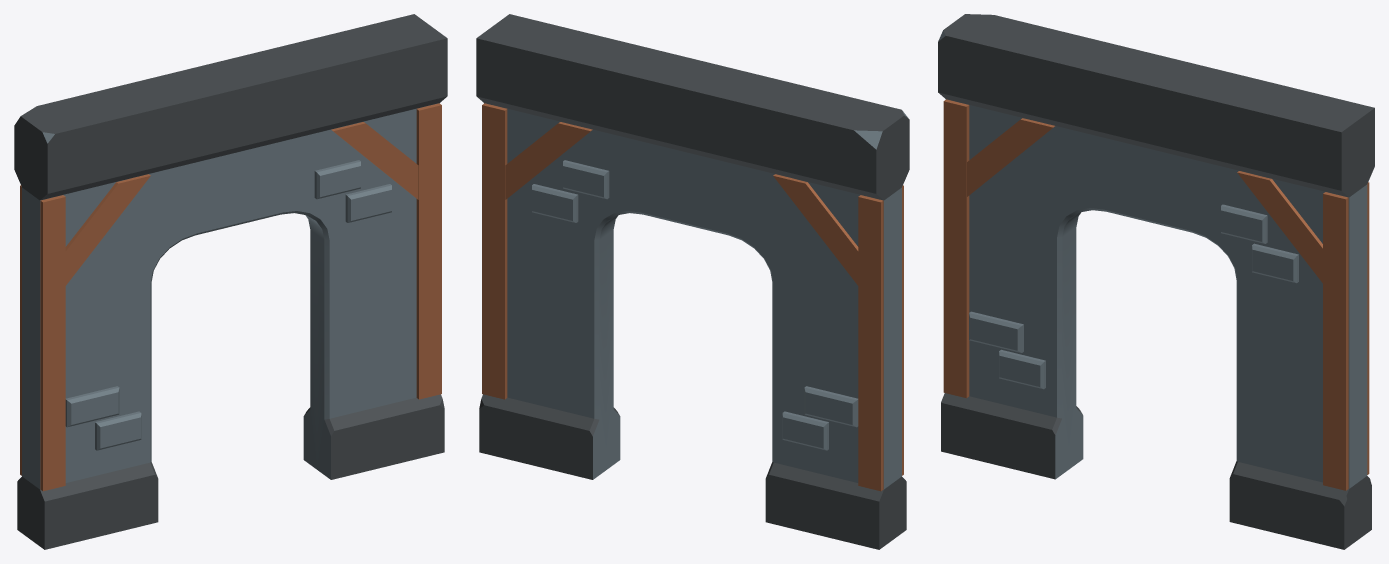
Rendered from wall_2_3.glb.
The picture shows the model from 3 angles, left to right: view 1: azimuth 30°, elevation 25°; view 2: azimuth 150°, elevation 25°; view 3: azimuth 330°, elevation 25°; orthographic projection.
Visible parts, largest first — view 1: wall_2_3; view 2: wall_2_3; view 3: wall_2_3.
Part boxes in pixels (bbox=[...]): wall_2_3: bbox=[14, 14, 447, 549]; wall_2_3: bbox=[476, 14, 909, 549]; wall_2_3: bbox=[938, 14, 1374, 549].
Size of the model in its own units: 1.54 by 1.53 by 0.2207.
1 material, 1 textured.
